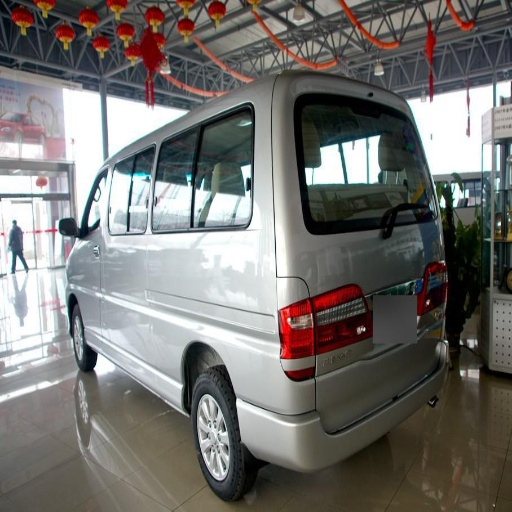back_bumper: (241, 367, 440, 471)
back_glass: (321, 102, 422, 214)
back_left_door: (195, 145, 248, 229), (154, 142, 185, 202)
trunk: (123, 227, 270, 402), (305, 269, 442, 395), (318, 232, 391, 271)
